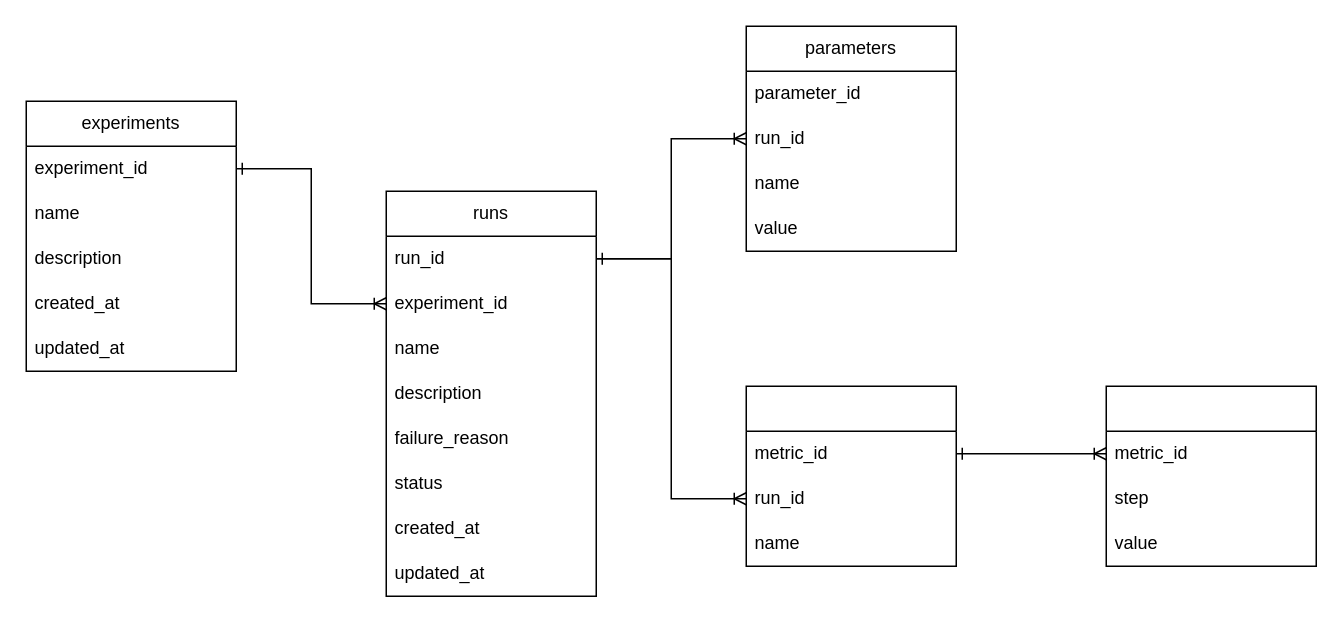
The diagram is 1343 pixels wide and 623 high, and some of its shapes have lost their labels. Here are the shapes that lost their labels. From the top down, the box of each, then its label:
(745, 385, 956, 566): metrics
(1105, 385, 1316, 566): plots
